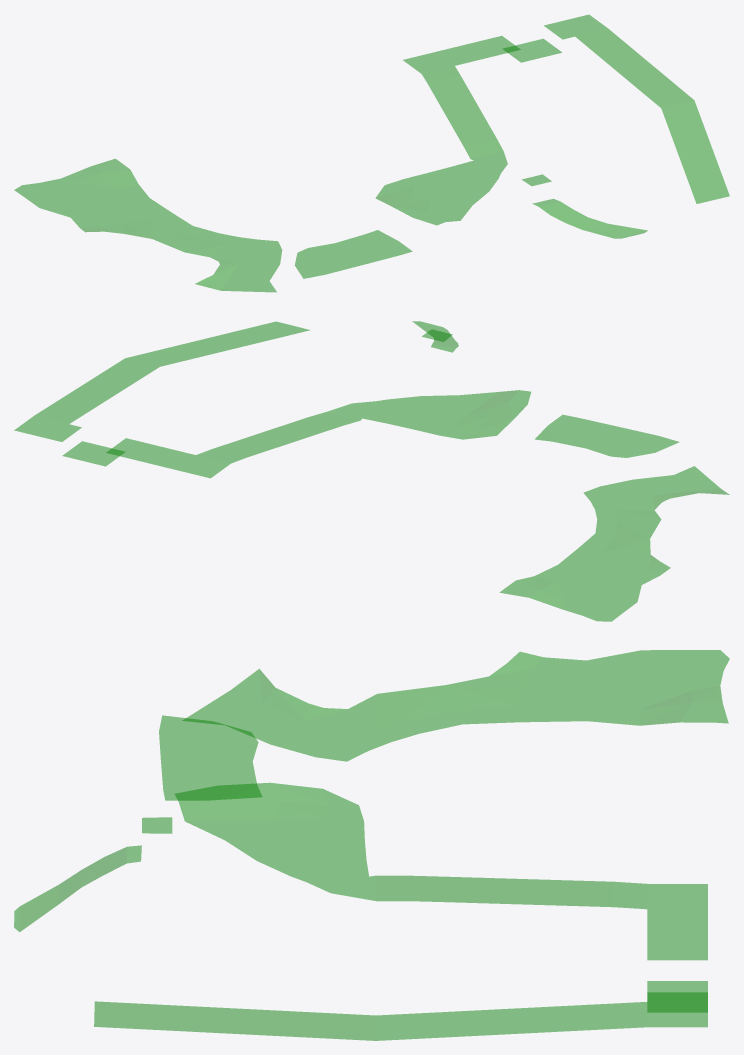
Rendered from suna.obj.
3 renders of one model, top to bottom at view 1: azimuth 30°, elevation 25°; view 2: azimuth 150°, elevation 25°; view 3: azimuth 270°, elevation 25°, orthographic. The views are drawn at different scales.
Size of the model in its own units: 138 by 13.04 by 94.91.
